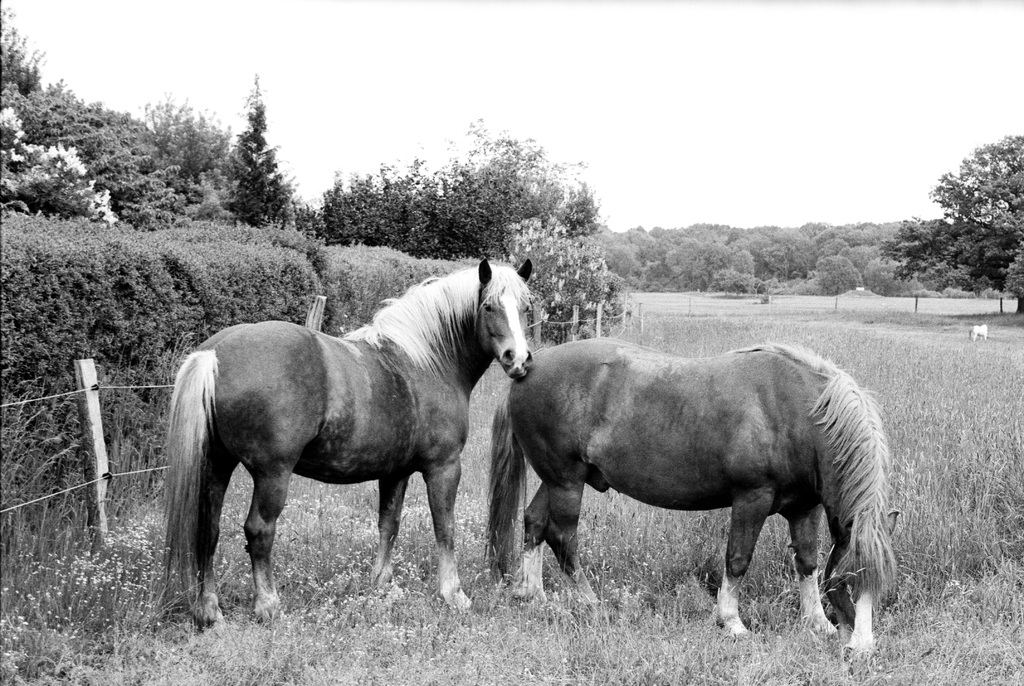horse: (158, 252, 533, 638)
